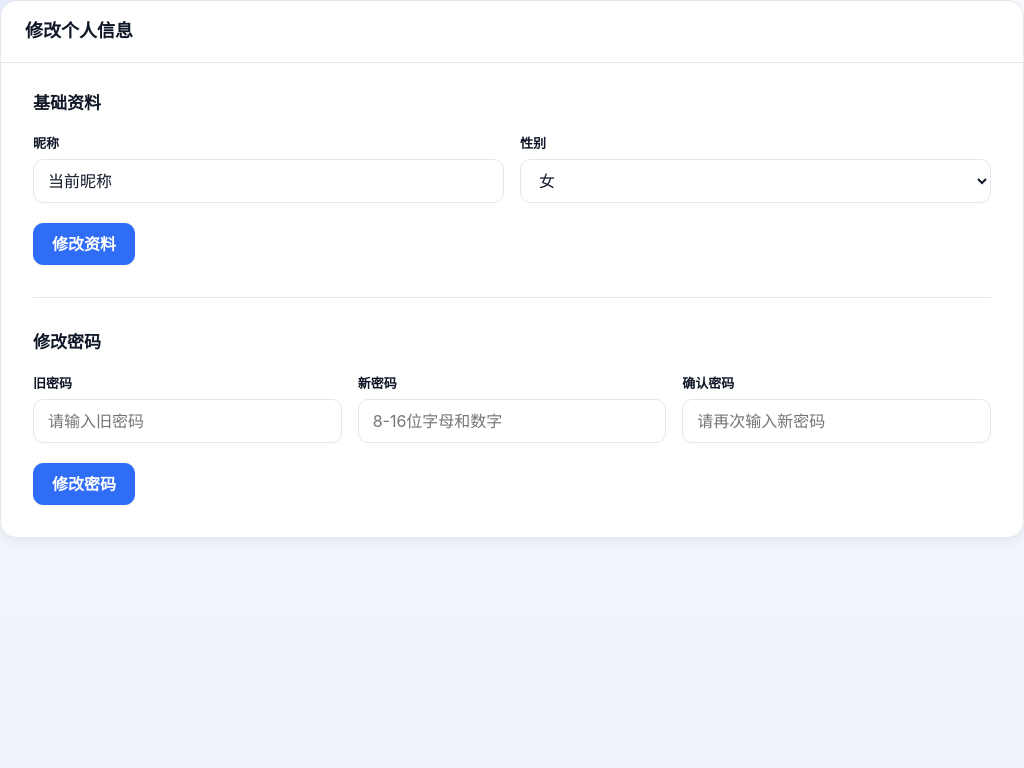
Test case: ProfileInfoView › 新密码实时校验长度和字母数字格式
In the password field labelled "新密码": coordinates (512, 421) [358, 399, 666, 443], type "abc1"
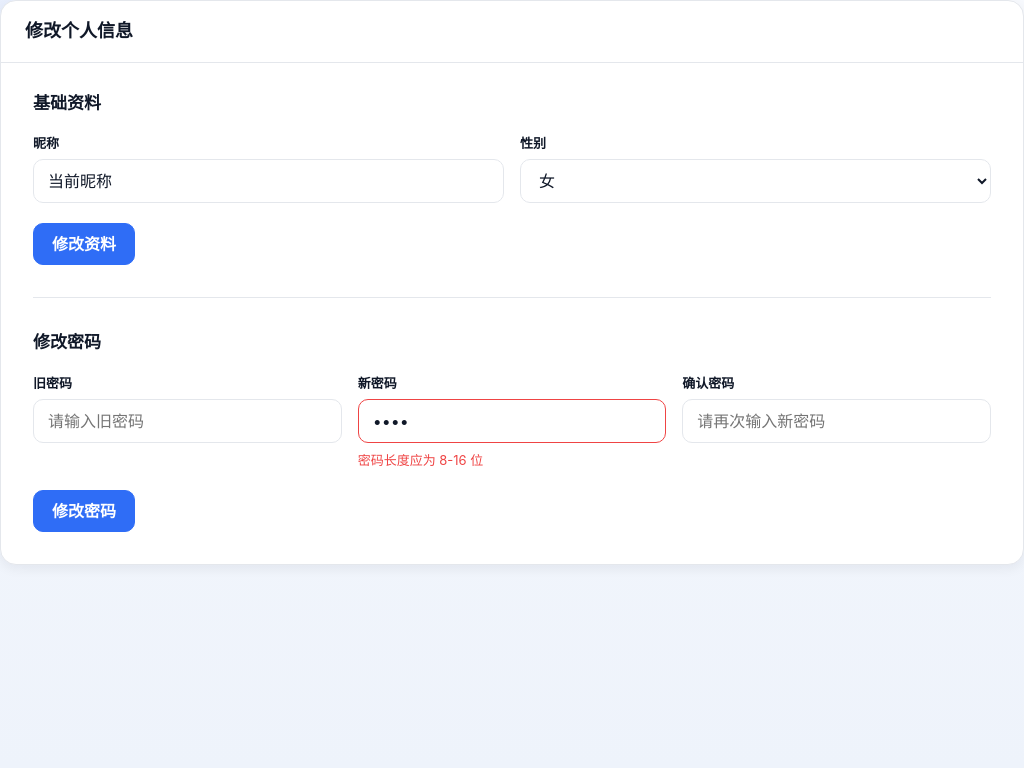
Expected: the text "密码长度应为 8-16 位" is shown, [358, 452, 483, 468]
In the password field labelled "新密码 密码长度应为 8-16 位": coordinates (512, 421) [358, 399, 666, 443], type "abcdefgh"
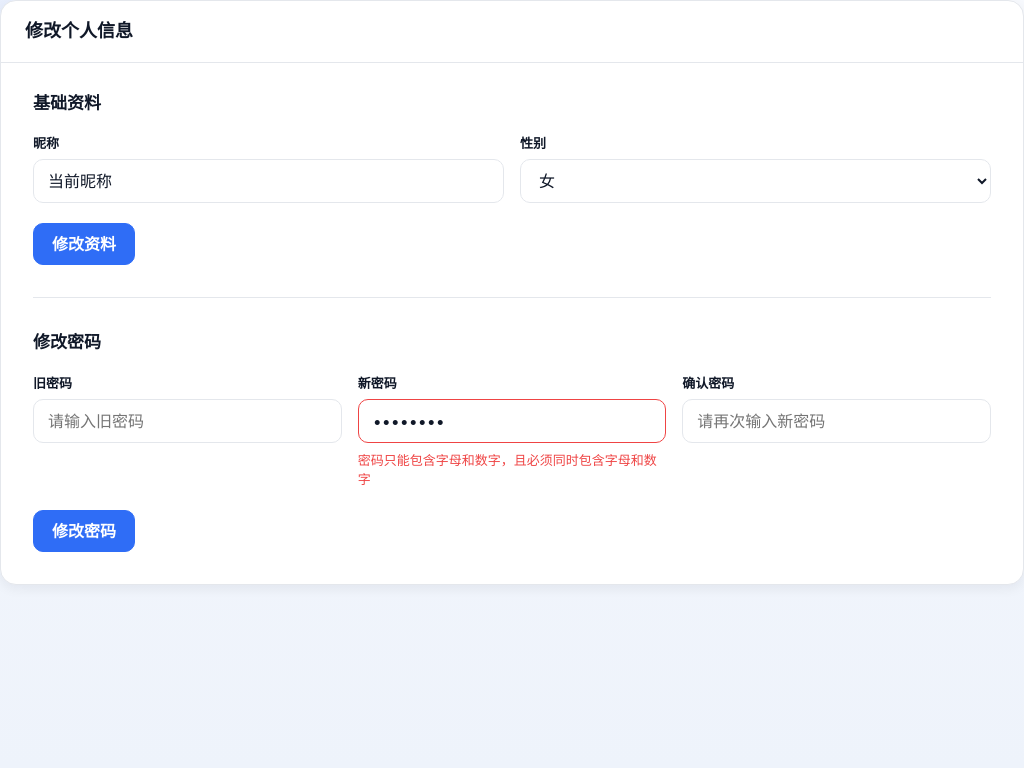
Expected: the text "密码只能包含字母和数字，且必须同时包含字母和数字" is shown, [358, 451, 666, 490]
In the password field labelled "新密码 密码只能包含字母和数字，且必须同时包含字母和数字": coordinates (512, 421) [358, 399, 666, 443], type "abcd1234"
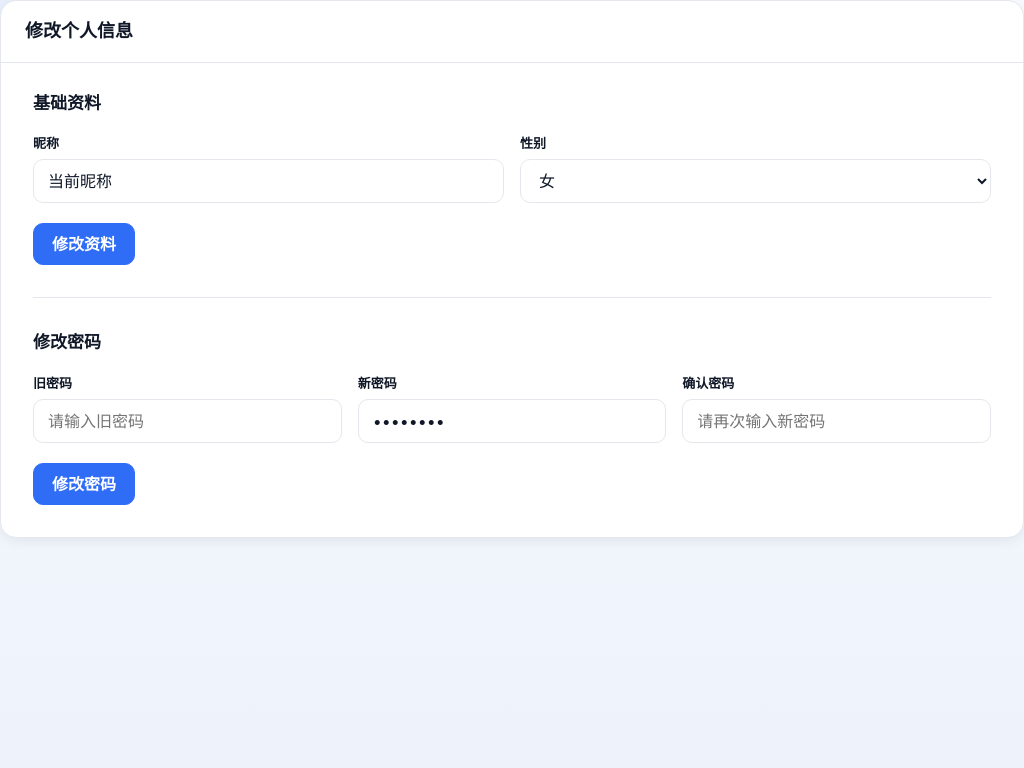
Expected: the text "密码长度应为 8-16 位" is not shown
Expected: the text "密码只能包含字母和数字，且必须同时包含字母和数字" is gone
